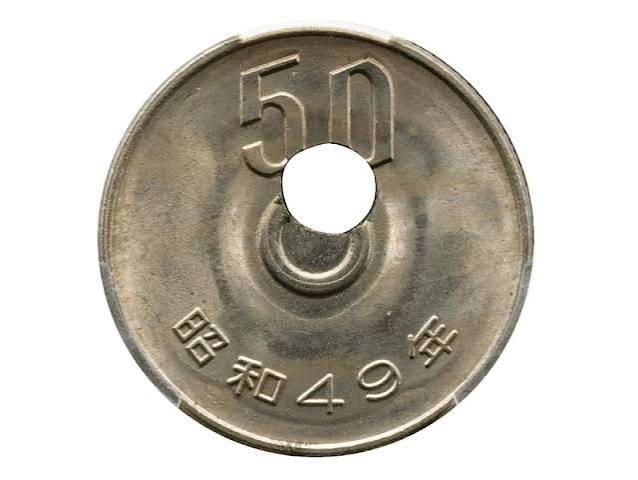year: (171, 307, 238, 368), (225, 355, 291, 405), (408, 318, 457, 366), (297, 372, 345, 414), (357, 359, 402, 401)
